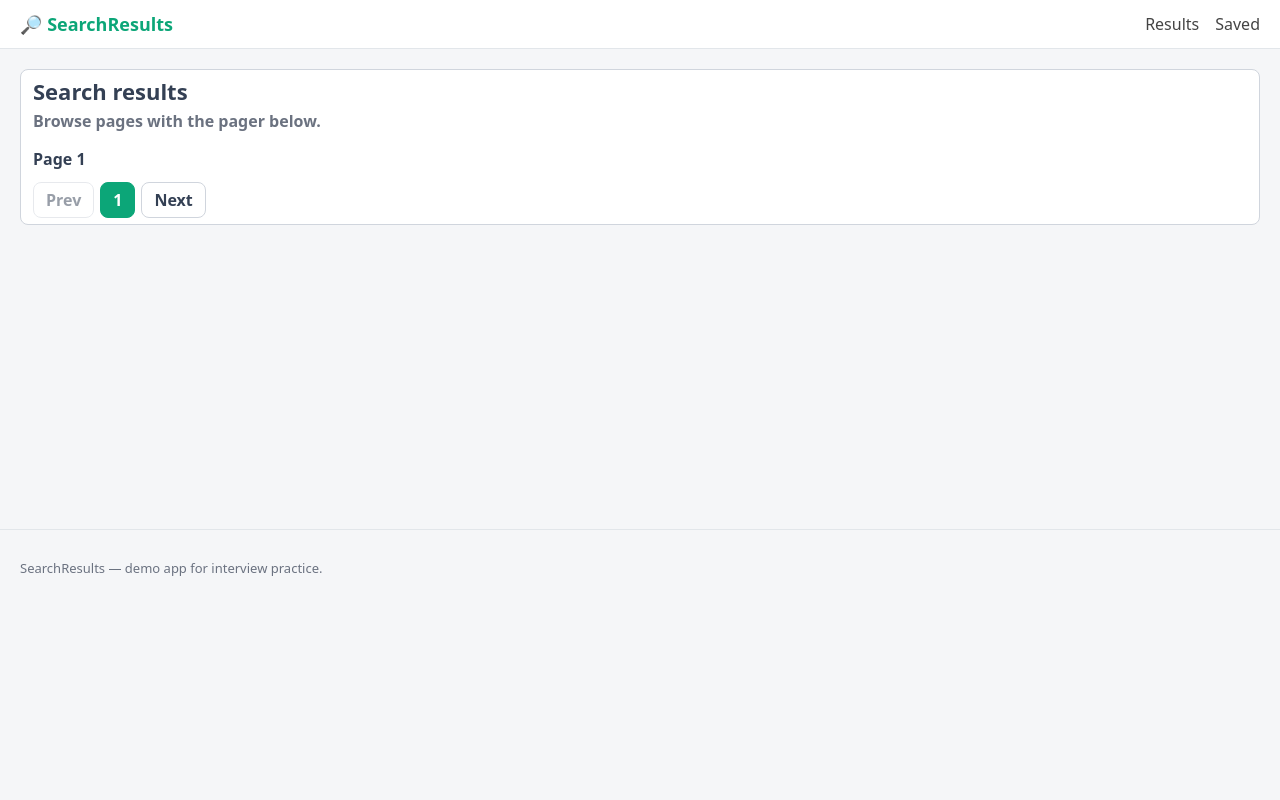
Test: m08 · SearchResults — app renders › navigates to the Saved route via the navbar
Click the link with test id "nav-saved" at (1238, 24), box [1215,13,1260,35]
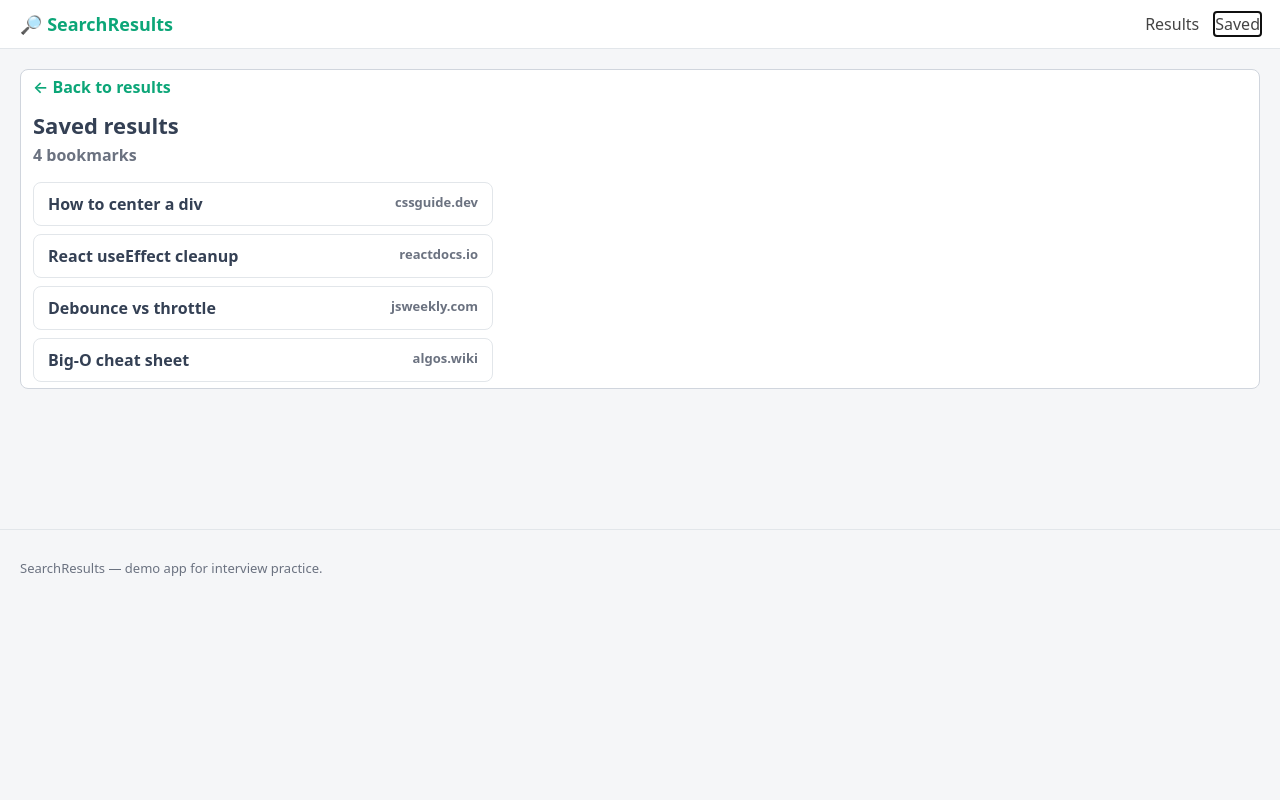
Expected: the element with test id "saved-page" is shown, [20,69,1260,389]
